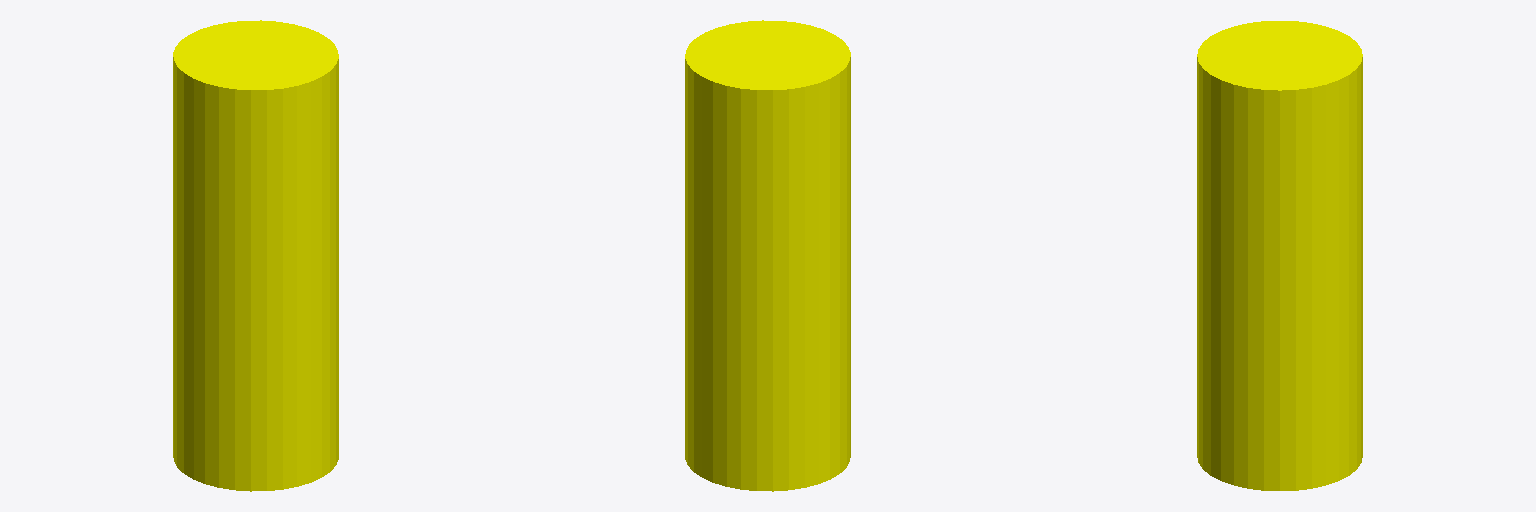
robot.urdf — rod.urdf:
<?xml version="0.0" ?>
<robot name="rod.urdf">

<link name="baseLink">
	<visual>
    <origin xyz="0 0 0.05" rpy="0 0 0"/>
    <geometry>
      <cylinder radius="0.01875" length="0.1"/>
      <!-- <cylinder radius="0.0125" length="0.07"/> -->
      <!-- <cylinder radius="2.0" length="0.07"/> -->
    </geometry>
    <material name="yellow">
        <color rgba="1 1 0 1"/>
      </material>
  </visual>
  <collision>
    <origin xyz="0.0 0 0.05" rpy="0 0 0"/>
    <geometry>
      <!-- tolerance values based on hole being 4cm diameter -->
      <!-- tolerance: 1.5cm -->
     <!-- <cylinder radius="0.0125" length="0.1"/> -->
     <!-- <cylinder radius="0.0125" length="0.07"/> -->
      <!-- tolerance:: .25cm -->
      <cylinder radius="0.01875" length="0.1"/>
      <!-- tolerance: .5cm -->
      <!--<cylinder radius="0.0175" length="0.07"/>-->
    </geometry>
  </collision>
  <inertial>
    <mass value="0.1"/>
    <origin rpy="0 0 0" xyz="0.0 0.0 0.0"/>
    <inertia ixx="0.000526462289415" ixy="0.0" ixz="0.0" iyy="0.000526462289415" iyz="0.0" izz="0.000568125"/>
    <!-- <inertia ixx="1" ixy="0.0" ixz="0.0" iyy="1" iyz="0.0" izz="1"/> -->
  </inertial>
</link>

</robot>

--- Render facts (derived) ---
3 views of the same robot in one strip: view 1: azimuth 30°, elevation 25°; view 2: azimuth 150°, elevation 25°; view 3: azimuth 270°, elevation 25° (orthographic).
Model rod.urdf with 1 links and 0 joints (none), rooted at baseLink, posed all joints at 0.
Visible links, largest first — view 1: baseLink; view 2: baseLink; view 3: baseLink.
Link boxes in pixels (bbox=[...]): baseLink: bbox=[173, 20, 338, 491]; baseLink: bbox=[685, 20, 850, 491]; baseLink: bbox=[1197, 21, 1362, 490].
Bounding box of the posed robot: 0.0375 × 0.0375 × 0.1 m (x, y, z).
Geometry: primitives only (box / cylinder / sphere), no mesh files.